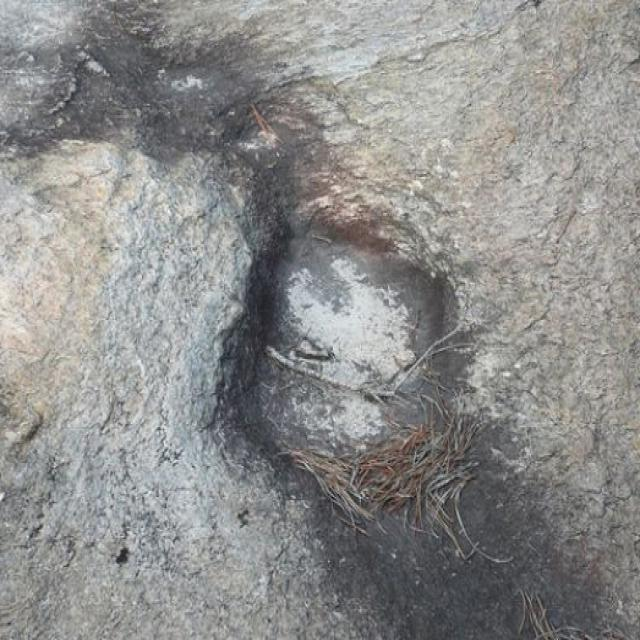Pothole: (214, 191, 513, 631)
